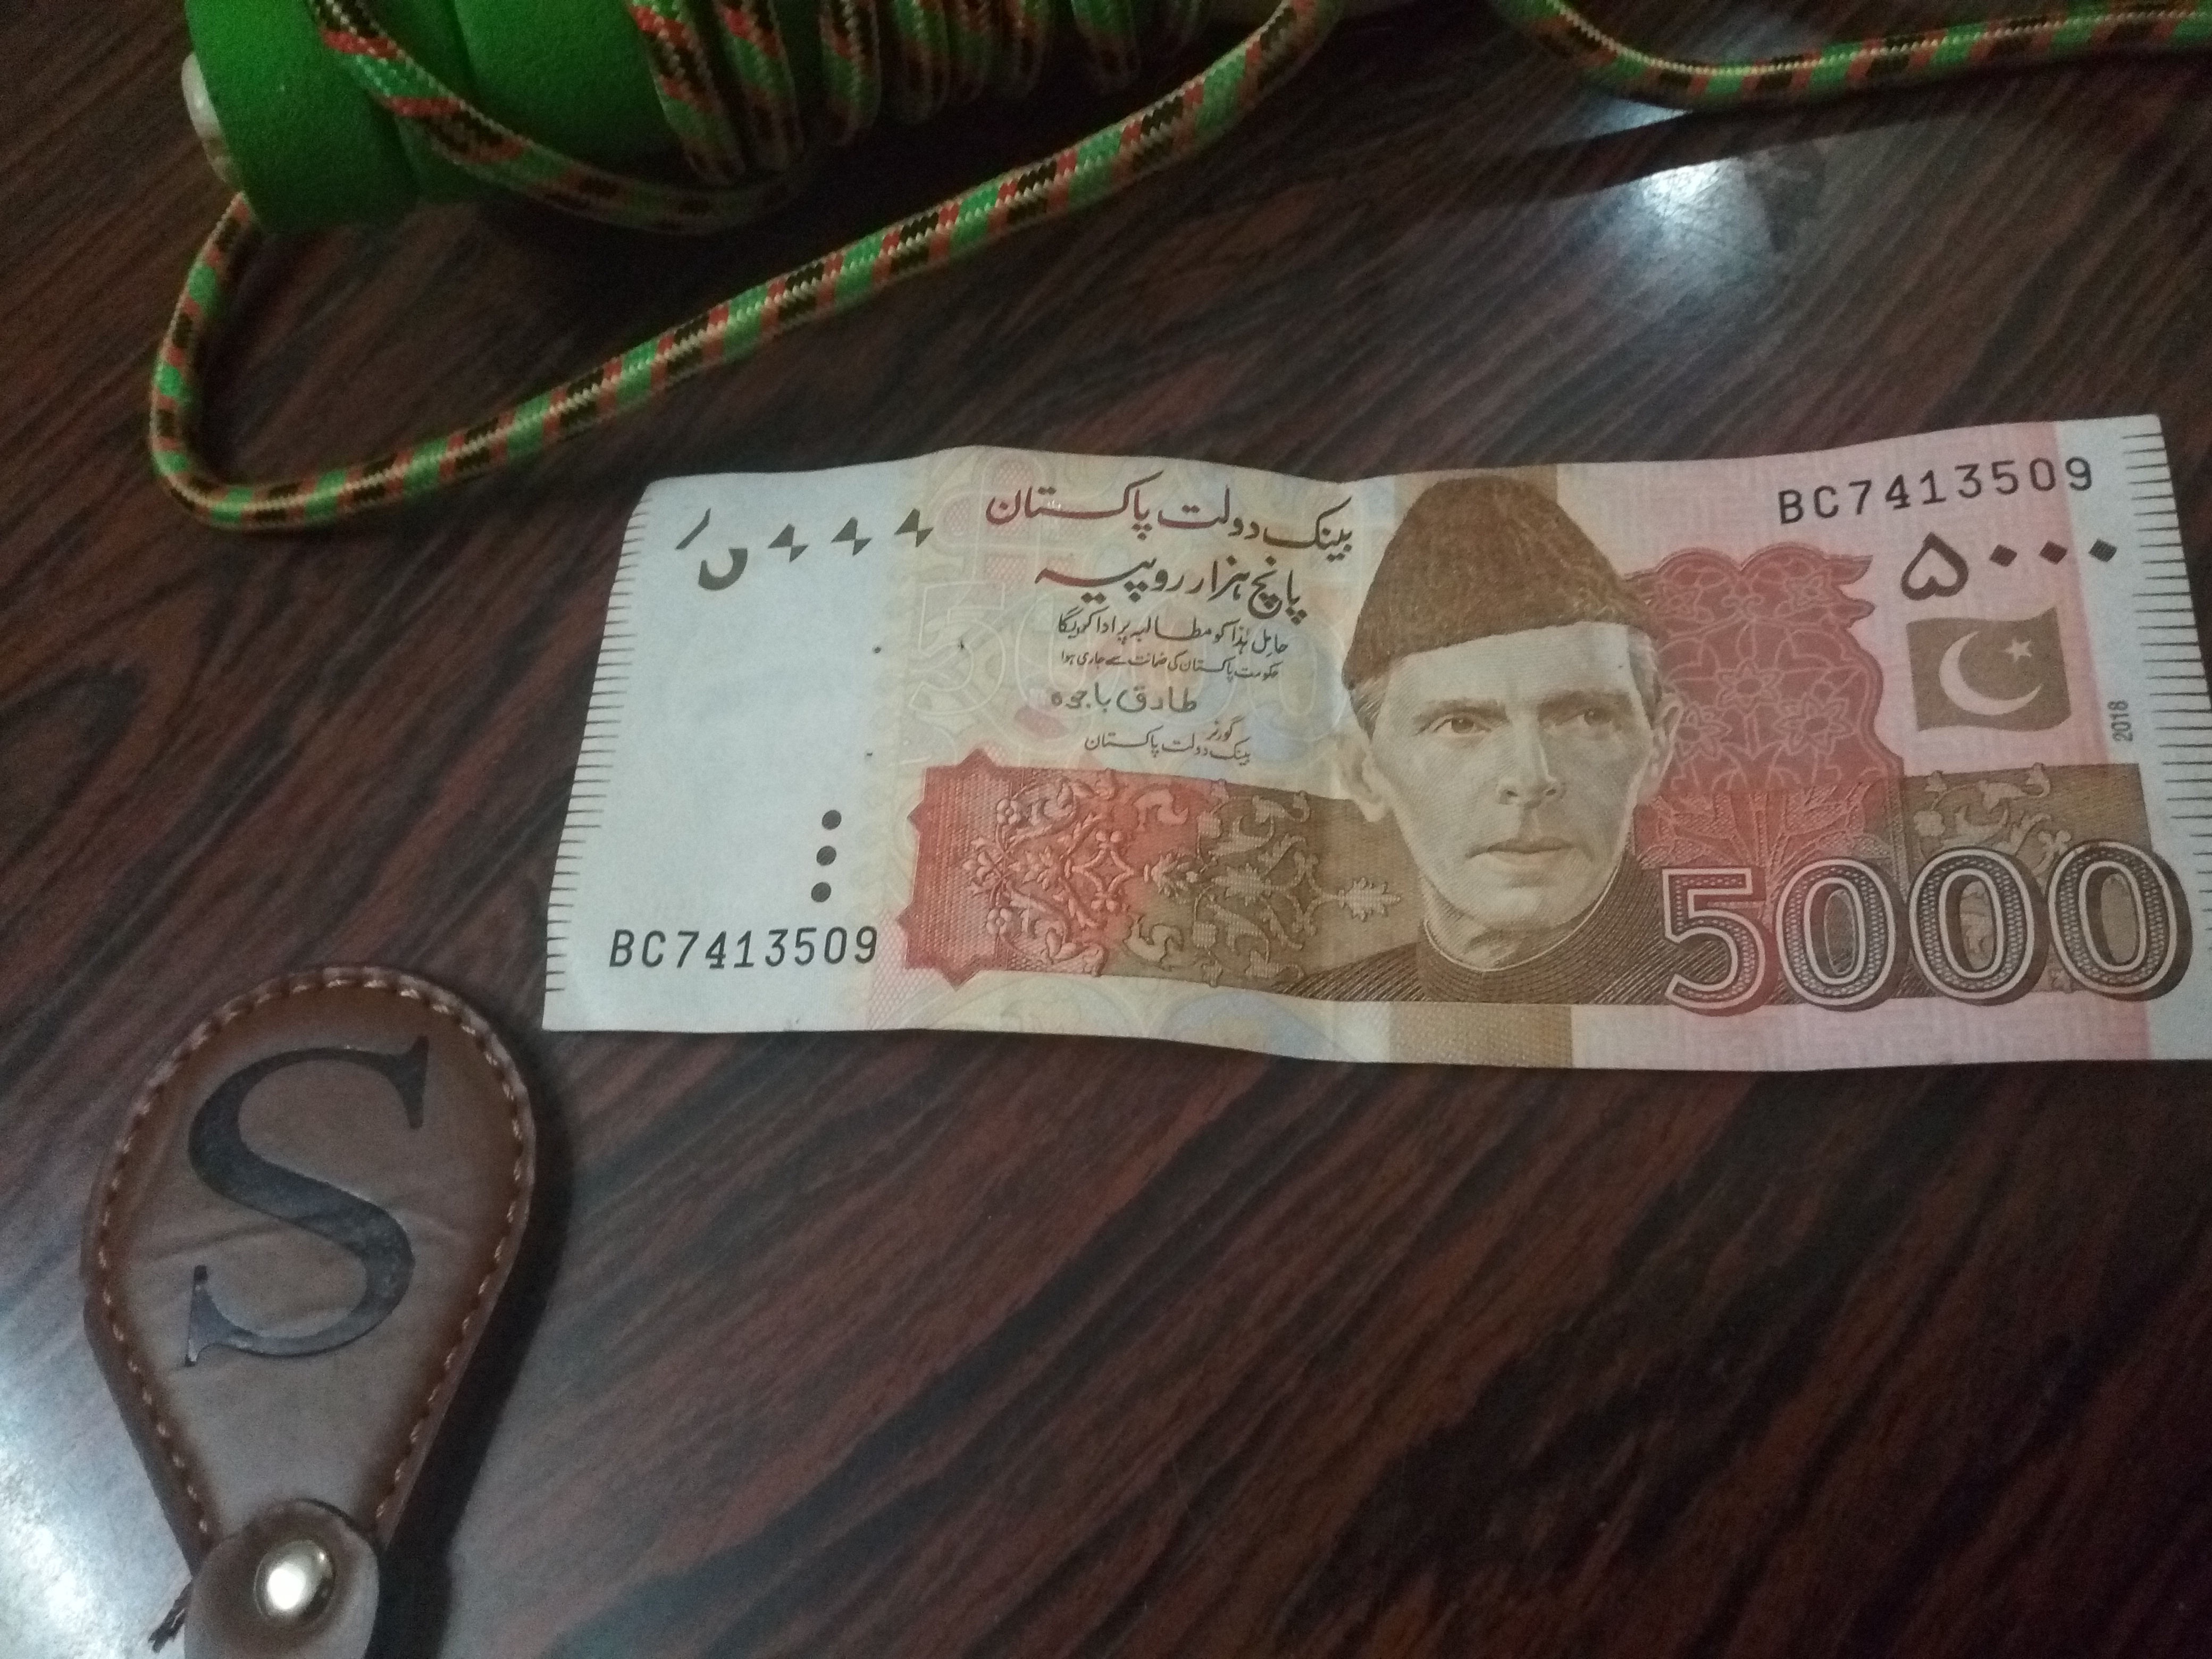5000 rupee: (470, 403, 2212, 1178)
